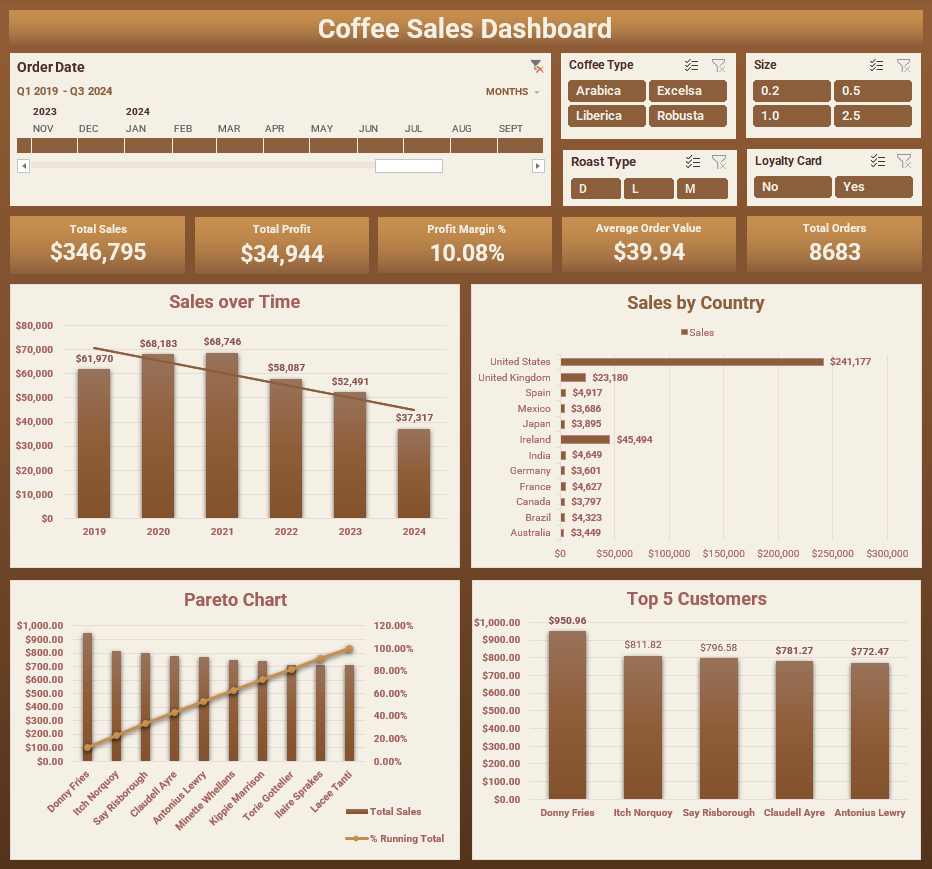

This screenshot's page, from the dashboard's own definition file:
{"tool":"powerbi","page":{"name":"Charts & KPIs","canvas":[1280,720],"ordinal":0},"visuals":[{"type":"actionButton","box":[0,0,1280,719.8],"z":0},{"type":"lineClusteredColumnComboChart","title":"Sales over Time","fields":{"Category":["Orders.Order Date.Variation.Date Hierarchy.Year"],"Y":["Key Measures.Total Sales Amount"]},"box":[17.5,74.9,466.9,268.4],"z":1000},{"type":"cardVisual","fields":{"Data":["Key Measures.Total Sales Amount"]},"box":[11.7,354,190,73.9],"z":2000},{"type":"cardVisual","fields":{"Data":["Key Measures.Average Order Value"]},"box":[399.8,353.1,190,74.9],"z":3000},{"type":"cardVisual","fields":{"Data":["Key Measures.Count of Orders"]},"box":[593.8,355,190,72.9],"z":4000},{"type":"cardVisual","fields":{"Data":["Key Measures.Total Profit Amount"]},"box":[205.7,354,190,73.9],"z":5000},{"type":"cardVisual","fields":{"Data":["Key Measures.Profit Margin %"]},"box":[787.8,356,189.7,72],"z":6000},{"type":"azureMap","title":"Sales by Country","fields":{"Category":["Customers.Country"],"Size":["Key Measures.Total Sales Amount"]},"box":[501.9,437.7,466.9,268.4],"z":7000},{"type":"barChart","title":"Top 5 Customers","fields":{"Category":["Customers.Customer Name"],"Y":["Key Measures.Total Sales Amount"]},"box":[501.9,74.9,466.9,268.4],"z":8000},{"type":"lineStackedColumnComboChart","title":"Pareto Chart","fields":{"Y":["Key Measures.Total Sales Amount"],"Category":["Customers.Customer Name"],"Y2":["Key Measures.Pareto % Cumulative"]},"box":[17.5,437.7,466.9,268.4],"z":9000},{"type":"slicer","title":"Order Date Range","fields":{"Values":["Orders.Order Date"]},"box":[985.3,127.4,280.1,130.3],"z":10000},{"type":"advancedSlicerVisual","fields":{"Values":["Products.Size"]},"box":[985.3,404.6,280.1,119.6],"z":11000},{"type":"advancedSlicerVisual","fields":{"Values":["Customers.Loyalty Card"]},"box":[985.3,631.2,280.1,74.9],"z":12000},{"type":"advancedSlicerVisual","fields":{"Values":["Products.Roast Type"]},"box":[985.3,540.8,280.1,74.9],"z":13000},{"type":"advancedSlicerVisual","fields":{"Values":["Products.Coffee Type"]},"box":[985.3,271.4,280.1,119.6],"z":14000},{"type":"actionButton","box":[17.5,13.6,1247.9,43.8],"z":15000},{"type":"actionButton","box":[985.3,74.9,280.1,38.9],"z":16000}]}

Visuals, with their boxes on the page's 1280x720 design canvas (x1, y1, x2, y2). These are canvas units, not pixel positions in the 932x869 screenshot, which may show the page scaled, cropped or inside an application window:
actionButton: pyautogui.locateOnScreen(0, 0, 1280, 720)
"Sales over Time" lineClusteredColumnComboChart: pyautogui.locateOnScreen(18, 75, 484, 343)
cardVisual - Key Measures.Total Sales Amount: pyautogui.locateOnScreen(12, 354, 202, 428)
cardVisual - Key Measures.Average Order Value: pyautogui.locateOnScreen(400, 353, 590, 428)
cardVisual - Key Measures.Count of Orders: pyautogui.locateOnScreen(594, 355, 784, 428)
cardVisual - Key Measures.Total Profit Amount: pyautogui.locateOnScreen(206, 354, 396, 428)
cardVisual - Key Measures.Profit Margin %: pyautogui.locateOnScreen(788, 356, 978, 428)
"Sales by Country" azureMap: pyautogui.locateOnScreen(502, 438, 969, 706)
"Top 5 Customers" barChart: pyautogui.locateOnScreen(502, 75, 969, 343)
"Pareto Chart" lineStackedColumnComboChart: pyautogui.locateOnScreen(18, 438, 484, 706)
"Order Date Range" slicer: pyautogui.locateOnScreen(985, 127, 1265, 258)
advancedSlicerVisual - Products.Size: pyautogui.locateOnScreen(985, 405, 1265, 524)
advancedSlicerVisual - Customers.Loyalty Card: pyautogui.locateOnScreen(985, 631, 1265, 706)
advancedSlicerVisual - Products.Roast Type: pyautogui.locateOnScreen(985, 541, 1265, 616)
advancedSlicerVisual - Products.Coffee Type: pyautogui.locateOnScreen(985, 271, 1265, 391)
actionButton: pyautogui.locateOnScreen(18, 14, 1265, 57)
actionButton: pyautogui.locateOnScreen(985, 75, 1265, 114)
